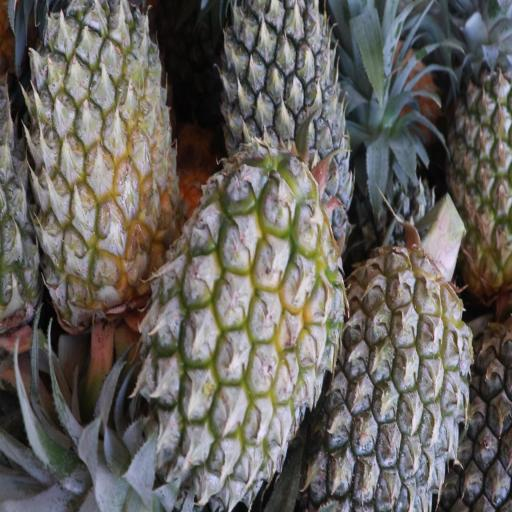------------------------------: (146, 164, 330, 502), (30, 0, 170, 337), (440, 40, 512, 284)
